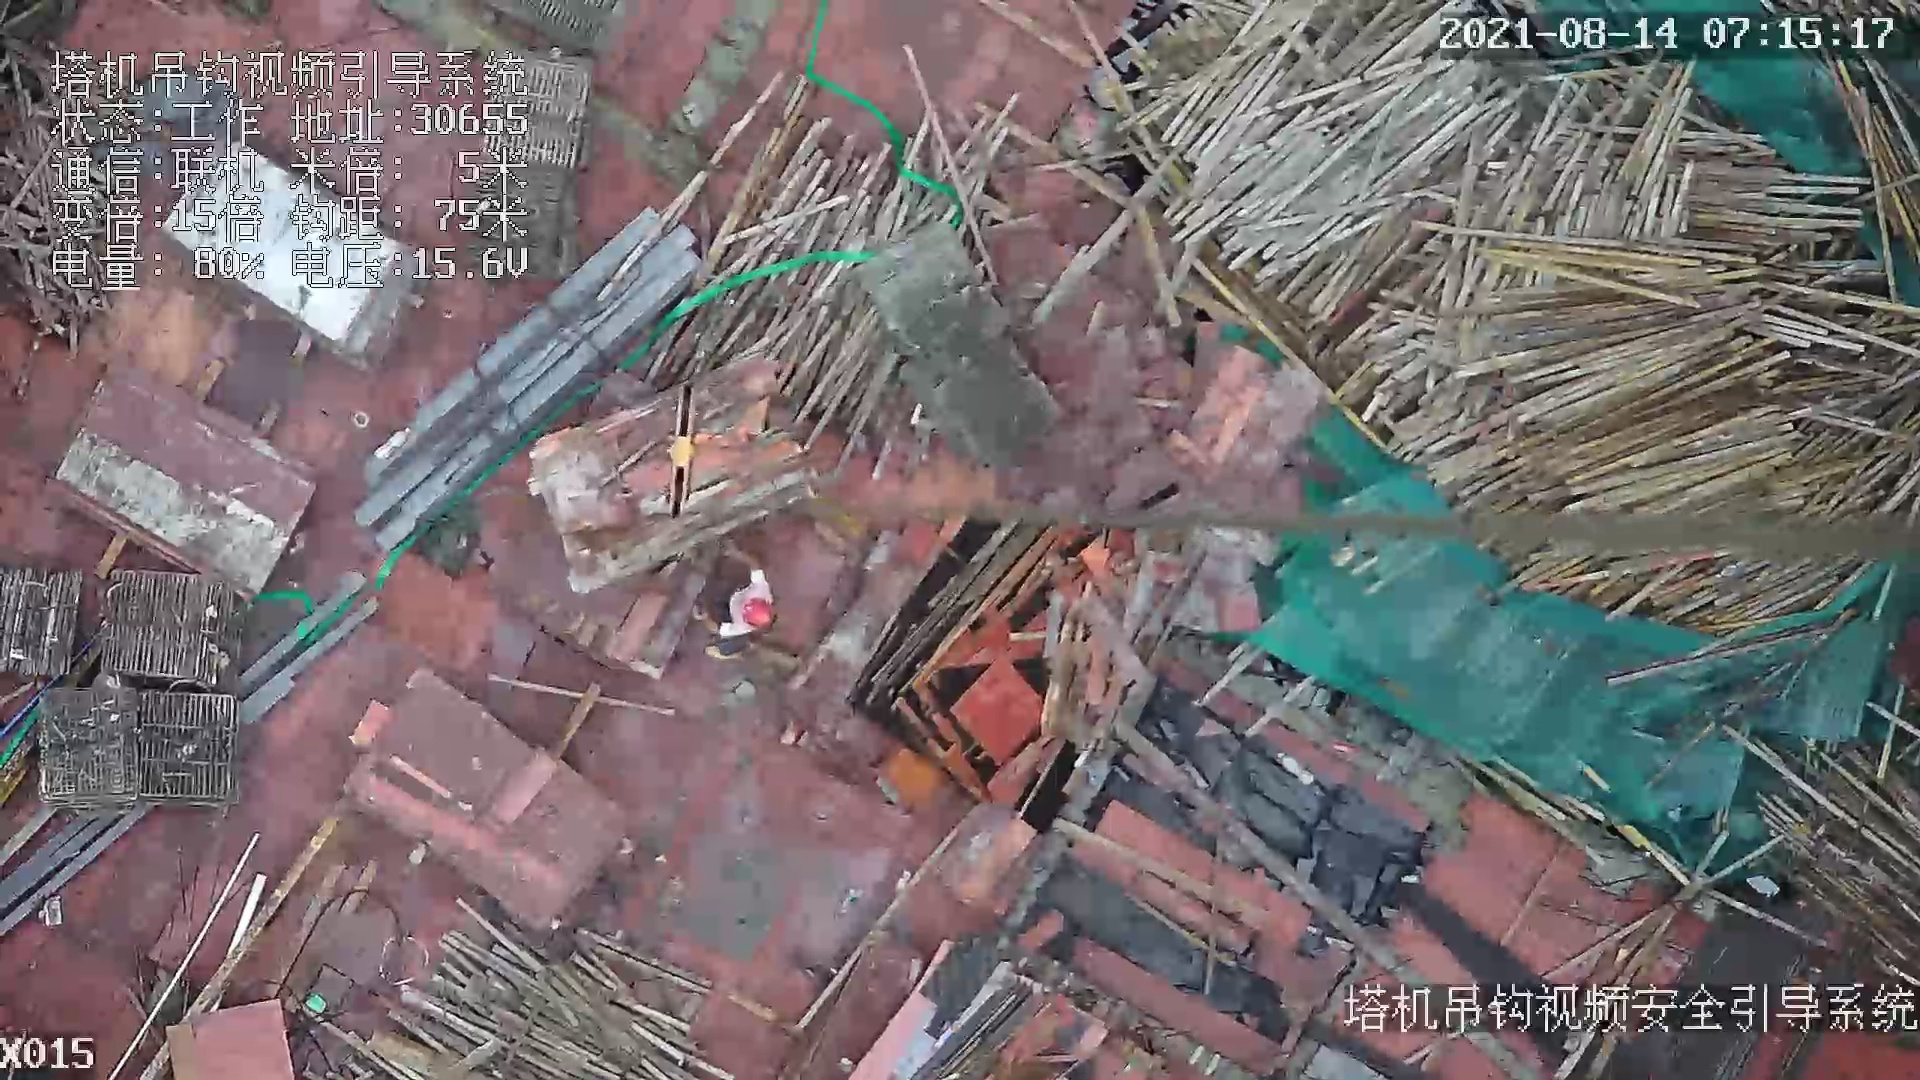helmet: (738, 593, 777, 632)
hook: (663, 378, 705, 524)
person: (695, 545, 781, 641)
